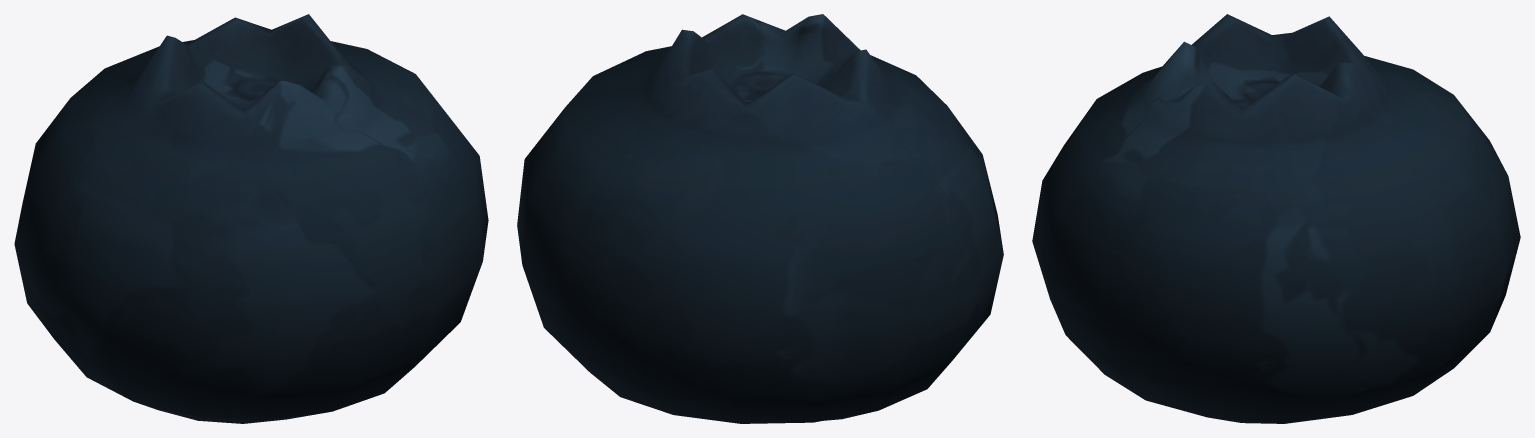
File: SM_BlueberryB.fbx
3 renders of one model, left to right at view 1: azimuth 30°, elevation 25°; view 2: azimuth 150°, elevation 25°; view 3: azimuth 270°, elevation 25°, orthographic. The views are drawn at different scales.
Parts seen in each view (by area): view 1: SM_BlueberryB; view 2: SM_BlueberryB; view 3: SM_BlueberryB.
Part boxes in pixels (left/top/right/bottom): SM_BlueberryB: left=14, top=14, right=488, bottom=423; SM_BlueberryB: left=517, top=14, right=1003, bottom=423; SM_BlueberryB: left=1032, top=14, right=1520, bottom=423.
Bounding box in the file's own units: 5.08 × 4.02 × 5.15.
